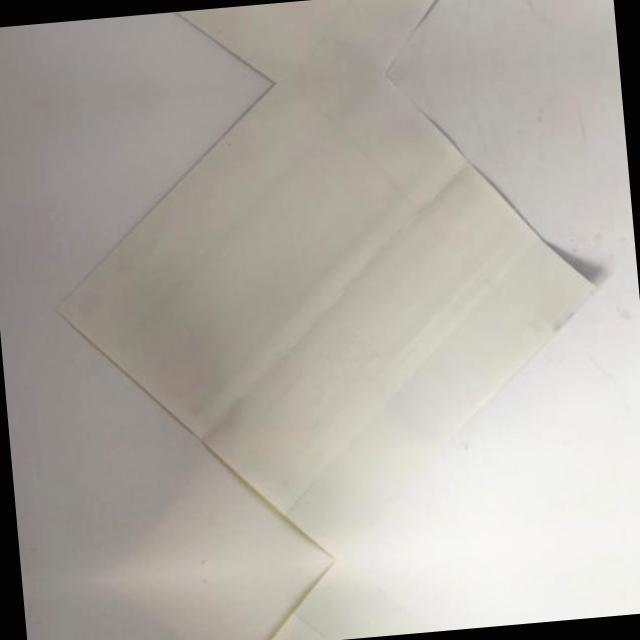paper: (35, 55, 621, 582), (77, 533, 628, 640), (28, 0, 579, 103)
